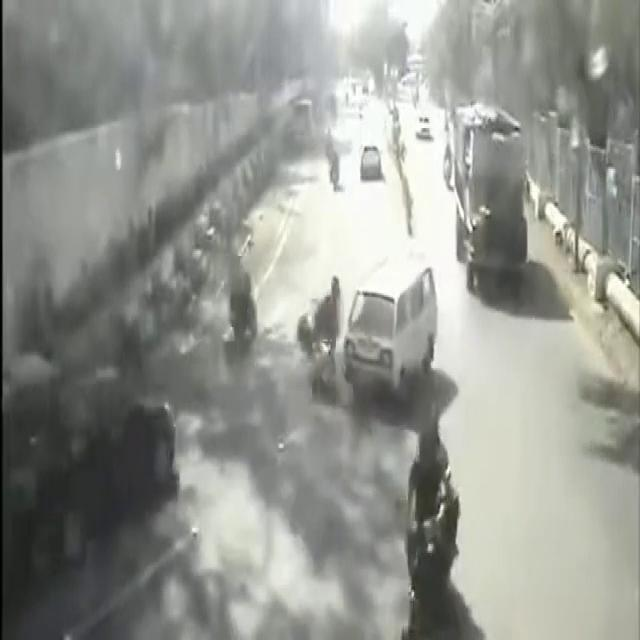accident: (290, 255, 446, 408)
